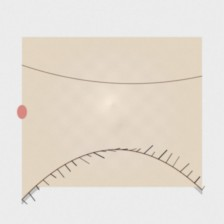hemorrhage_spot: (72, 86, 173, 167)
